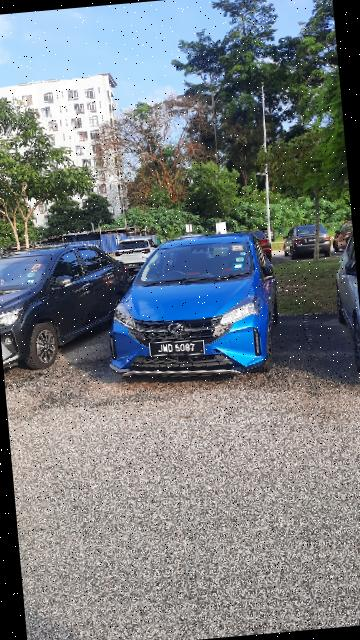License_Plate: (145, 334, 212, 366)
car: (105, 225, 296, 386), (1, 233, 144, 375)
